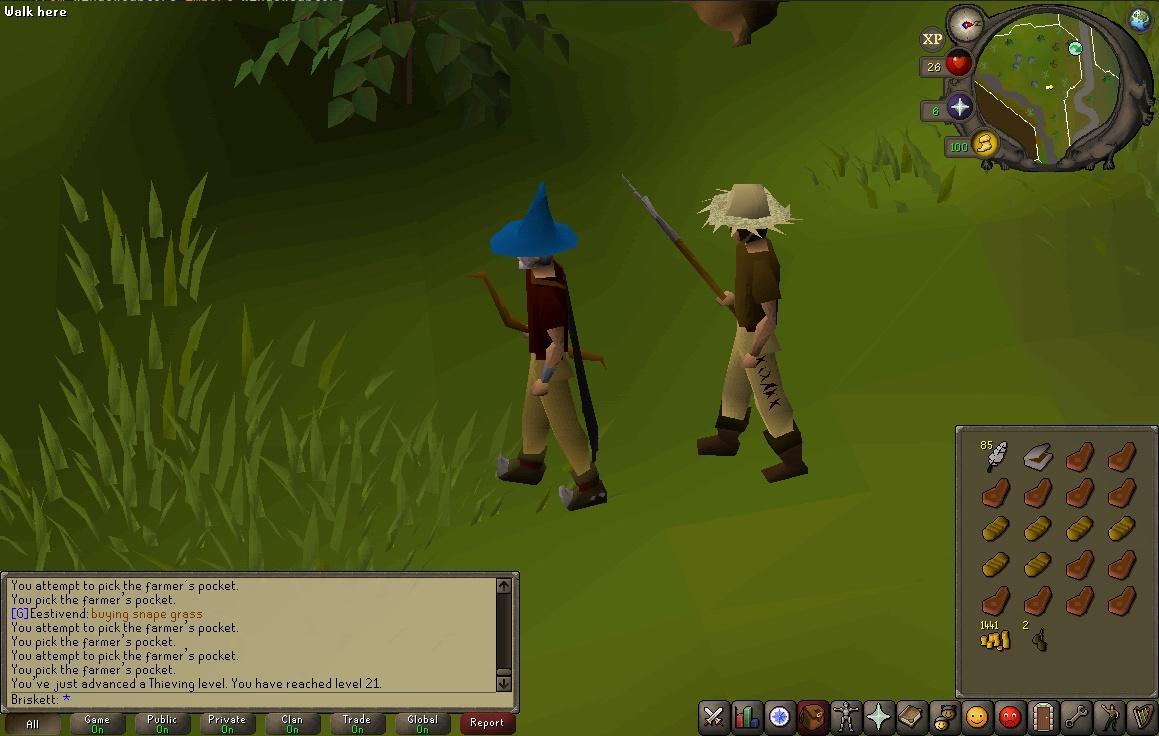Farmer: (621, 173, 810, 484)
